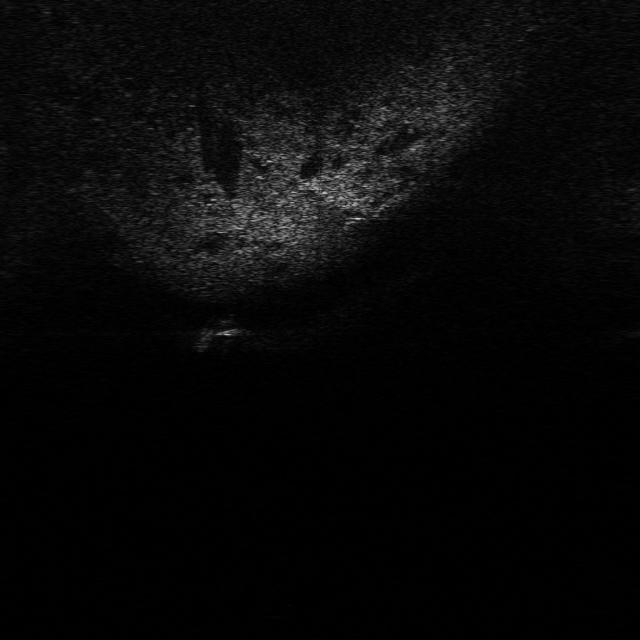cube: (203, 316, 249, 338)
cylinder: (192, 329, 213, 355)
